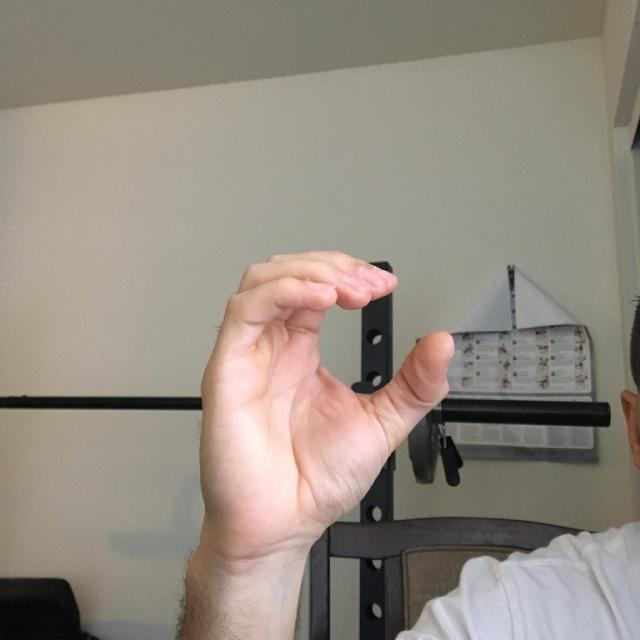C: (140, 202, 492, 592)
